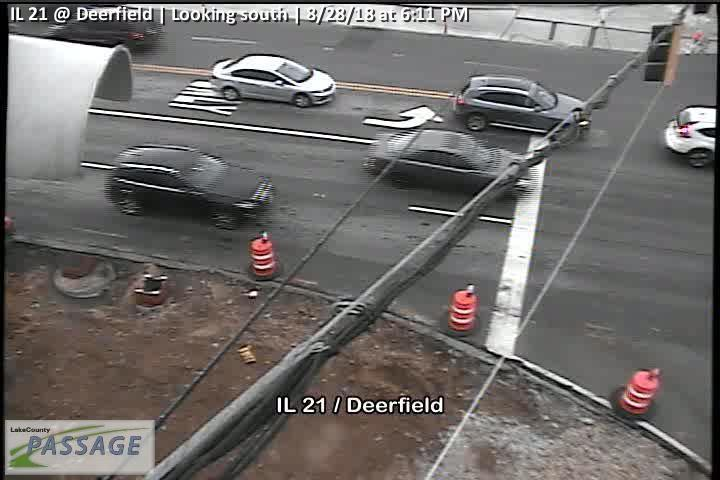SUV: (106, 146, 273, 225), (453, 74, 592, 140), (662, 103, 715, 167)
Sedan: (362, 126, 533, 203), (209, 54, 336, 109)
